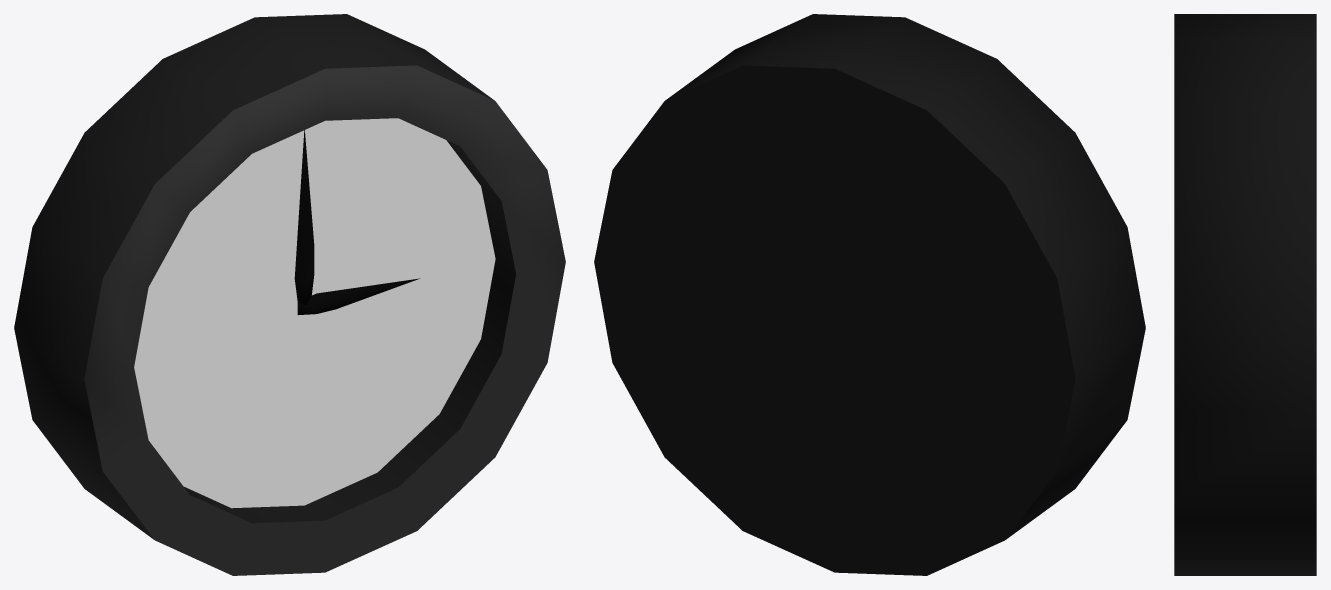
The model's file is test_clock1.fbx.
The picture shows the model from 3 angles, left to right: view 1: azimuth 30°, elevation 25°; view 2: azimuth 150°, elevation 25°; view 3: azimuth 270°, elevation 25°; orthographic projection.
Parts seen in each view (by area): view 1: Plane.002; view 2: Plane.002; view 3: Plane.002.
Part boxes in pixels (x1,y1,x2,y2): Plane.002: (14,14,565,575); Plane.002: (594,14,1145,575); Plane.002: (1174,14,1316,575).
Bounding box in the file's own units: 89.94 × 89.94 × 22.74.
